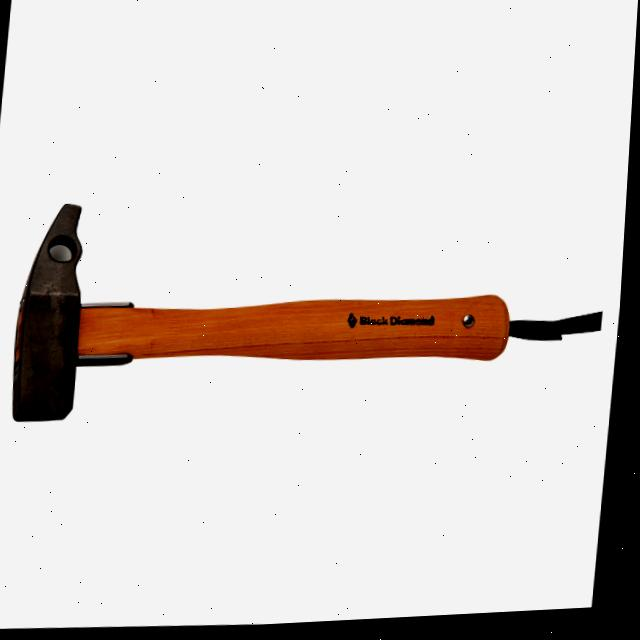hammer: (0, 171, 623, 453)
